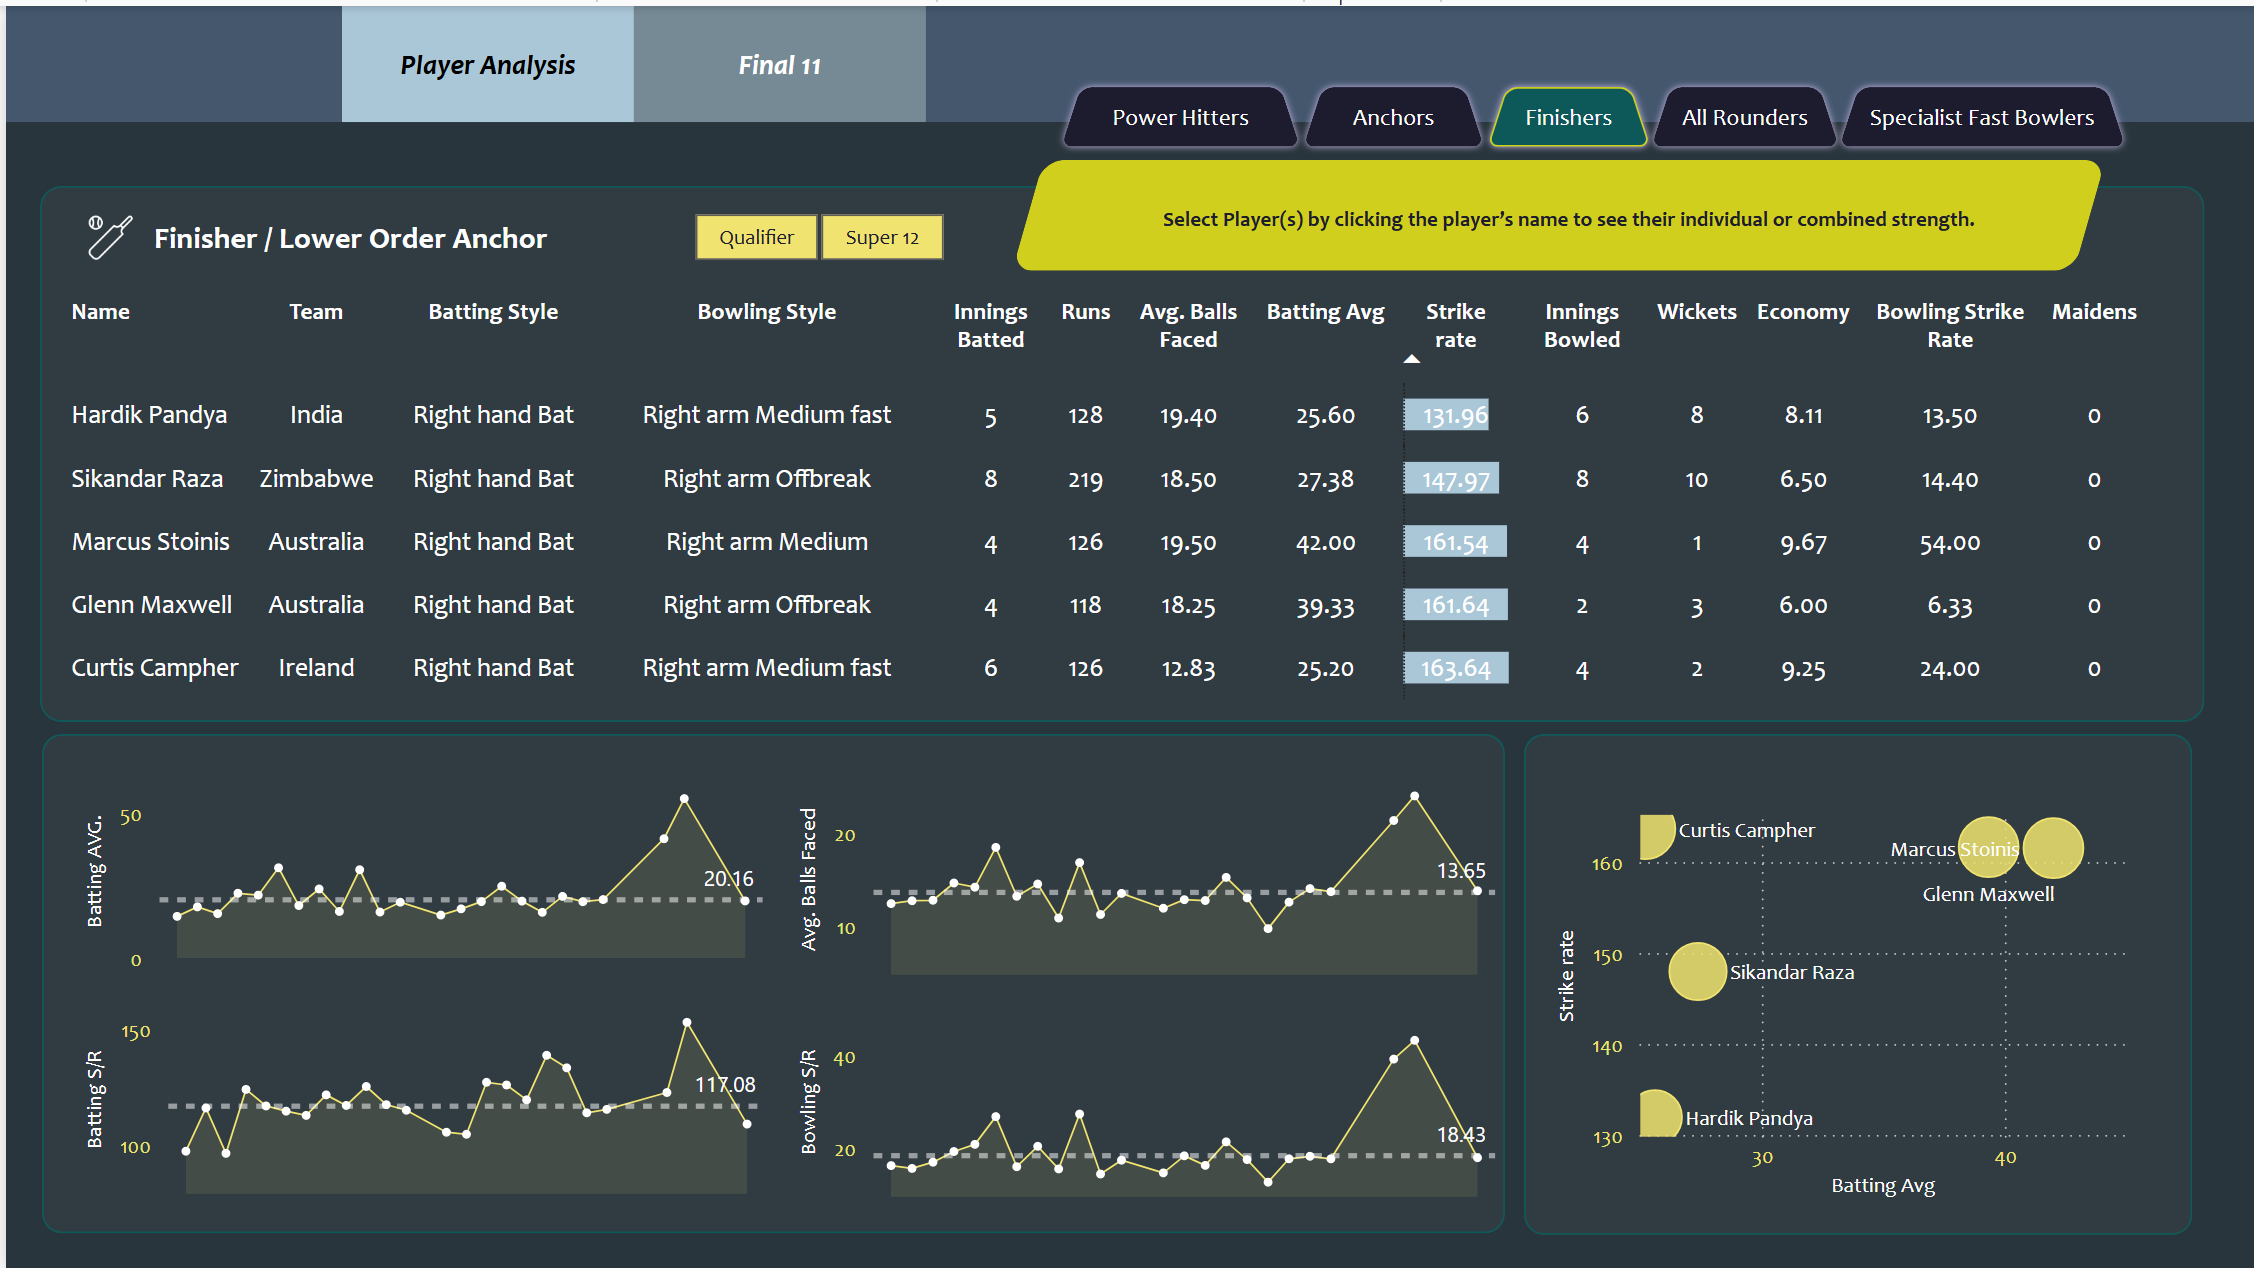

The page's visual inventory and layout, read from the dashboard file:
{"tool":"powerbi","page":{"name":"New Finisher / Lower Order Anchor","canvas":[1280,720],"ordinal":2},"visuals":[{"type":"shape","box":[0,66,1280,654],"z":0},{"type":"card","fields":{"Values":["Key_Measures.Strike rate"]},"box":[867,89,93,60],"z":0,"group":"g2"},{"type":"shape","box":[83.7,116.2,260,31.2],"z":0,"group":"g1"},{"type":"card","fields":{"Values":["Key_Measures.Bat Avg"]},"box":[768,89,92,60],"z":1000,"group":"g2"},{"type":"image","box":[37.5,113.8,44,36],"z":1000,"group":"g1"},{"type":"shape","box":[20,414,832,284],"z":1000},{"type":"actionButton","box":[734,42.6,111,42],"z":2000},{"type":"card","fields":{"Values":["Key_Measures.Bowling Strike Rate"]},"box":[1073,89,100,60],"z":2000,"group":"g2"},{"type":"actionButton","box":[596,42.6,144,42],"z":3000},{"type":"card","fields":{"Values":["Key_Measures.Avergate Balls Faced"]},"box":[966,89,101,60],"z":3000,"group":"g2"},{"type":"actionButton","box":[838,42.6,101,42],"z":4000},{"type":"actionButton","box":[932,42.6,115,42],"z":5000},{"type":"actionButton","box":[1039,42.6,171,42],"z":6000},{"type":"areaChart","fields":{"Category":["dim_match_summary.Match_Date.Variation.Date Hierarchy.Day"],"Y":["Key_Measures.Avergate Balls Faced"]},"box":[446,430,406,126],"z":9000},{"type":"areaChart","fields":{"Category":["dim_match_summary.Match_Date.Variation.Date Hierarchy.Day"],"Y":["Key_Measures.Bowling Strike Rate"]},"box":[446,556,406,126],"z":11000},{"type":"areaChart","fields":{"Category":["dim_match_summary.Match_Date.Variation.Date Hierarchy.Day"],"Y":["Key_Measures.Bat Avg"]},"box":[40,428.9,395.6,126.7],"z":12000},{"type":"areaChart","fields":{"Category":["dim_match_summary.Match_Date.Variation.Date Hierarchy.Day"],"Y":["Key_Measures.Strike rate"]},"box":[40,555.6,396.7,125.6],"z":13000},{"type":"shape","box":[19.6,101.9,1231,304.8],"z":14000},{"type":"group","id":"g1","title":"Group 2","box":[37.5,113.8,306.2,36],"z":15000},{"type":"slicer","fields":{"Values":["dim_match_summary.stage"]},"box":[366.7,111.1,191.1,38.9],"z":16000},{"type":"tableEx","fields":{"Values":["dim_player.name","Min(dim_player.team)","Min(dim_player.Batting Style)","Min(dim_player.Bowling Style)","Key_Measures.Total Innings Batted","Key_Measures.Total Runs","Key_Measures.Avergate Balls Faced","Key_Measures.Bat Avg","Key_Measures.Strike rate","Key_Measures.Total Innings Bowled","Key_Measures.wickets","Key_Measures.Economy"]},"box":[26.5,150.9,1224.1,254.8],"z":17000},{"type":"shape","box":[572,88,622,63],"z":18000},{"type":"shape","box":[591,103,173,34],"z":19000},{"type":"group","id":"g2","title":"Combined Perfoamce Metrices","box":[768,89,405,60],"z":20000},{"type":"actionButton","title":"Button Player Ana selected","box":[191,0,166,66],"z":22000},{"type":"actionButton","title":"Button Player Ana selected","box":[357,0,166,66],"z":23000},{"type":"shape","box":[608.6,102.9,560.6,36.3],"z":23501},{"type":"shape","box":[863.7,414.3,380,284.8],"z":24001},{"type":"scatterChart","fields":{"Y":["Key_Measures.Strike rate"],"Category":["dim_player.name"],"X":["Key_Measures.Bat Avg"],"Size":["Key_Measures.Strike rate"]},"box":[877.1,447.3,340.9,235.5],"z":24501}]}

Visuals, with their boxes in screenshot pixels (x1, y1, x2, y2), scaled from the page's 1280x720 canvas onto the 2254x1268 screenshot:
shape: x1=0, y1=116, x2=2253, y2=1267
card - Key_Measures.Strike rate: x1=1527, y1=157, x2=1690, y2=262
shape: x1=147, y1=205, x2=605, y2=260
card - Key_Measures.Bat Avg: x1=1352, y1=157, x2=1514, y2=262
image: x1=66, y1=200, x2=144, y2=264
shape: x1=35, y1=729, x2=1500, y2=1229
actionButton: x1=1293, y1=75, x2=1488, y2=149
card - Key_Measures.Bowling Strike Rate: x1=1889, y1=157, x2=2066, y2=262
actionButton: x1=1050, y1=75, x2=1303, y2=149
card - Key_Measures.Avergate Balls Faced: x1=1701, y1=157, x2=1879, y2=262
actionButton: x1=1476, y1=75, x2=1654, y2=149
actionButton: x1=1641, y1=75, x2=1844, y2=149
actionButton: x1=1830, y1=75, x2=2131, y2=149
areaChart - dim_match_summary.Match_Date.Variation.Date Hierarchy.Day x Key_Measures.Avergate Balls Faced: x1=785, y1=757, x2=1500, y2=979
areaChart - dim_match_summary.Match_Date.Variation.Date Hierarchy.Day x Key_Measures.Bowling Strike Rate: x1=785, y1=979, x2=1500, y2=1201
areaChart - dim_match_summary.Match_Date.Variation.Date Hierarchy.Day x Key_Measures.Bat Avg: x1=70, y1=755, x2=767, y2=978
areaChart - dim_match_summary.Match_Date.Variation.Date Hierarchy.Day x Key_Measures.Strike rate: x1=70, y1=978, x2=769, y2=1200
shape: x1=35, y1=179, x2=2202, y2=716
"Group 2" group: x1=66, y1=200, x2=605, y2=264
slicer - dim_match_summary.stage: x1=646, y1=196, x2=982, y2=264
tableEx - dim_player.name x Min(dim_player.team): x1=47, y1=266, x2=2202, y2=714
shape: x1=1007, y1=155, x2=2103, y2=266
shape: x1=1041, y1=181, x2=1345, y2=241
"Combined Perfoamce Metrices" group: x1=1352, y1=157, x2=2066, y2=262
"Button Player Ana selected" actionButton: x1=336, y1=0, x2=629, y2=116
"Button Player Ana selected" actionButton: x1=629, y1=0, x2=921, y2=116
shape: x1=1072, y1=181, x2=2059, y2=245
shape: x1=1521, y1=730, x2=2190, y2=1231
scatterChart - Key_Measures.Strike rate x dim_player.name: x1=1545, y1=788, x2=2145, y2=1202
